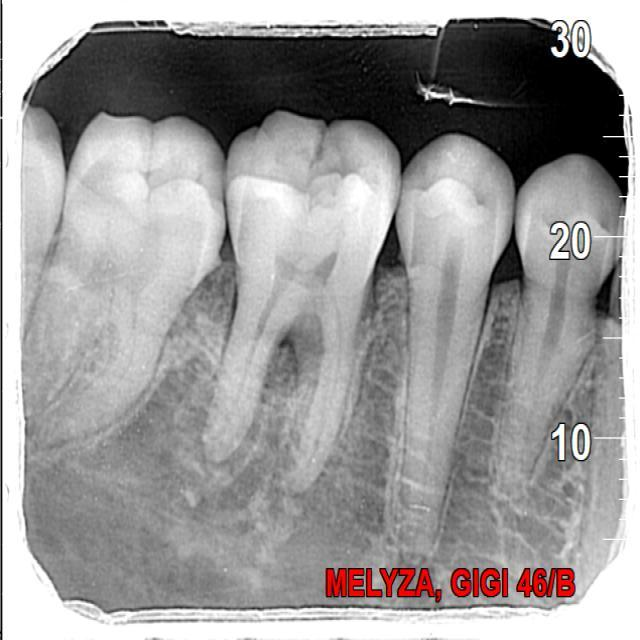individual-tooth-8tto: (205, 115, 400, 495), (15, 110, 231, 449), (391, 133, 518, 558), (488, 153, 633, 497)
